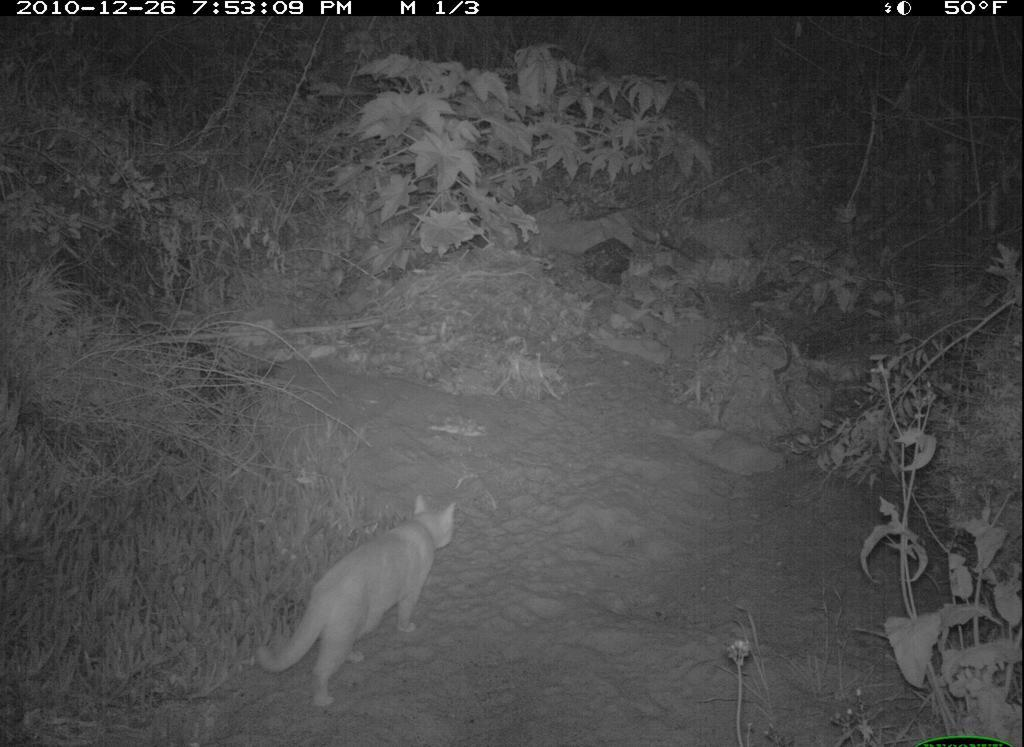cat: (250, 491, 460, 715)
